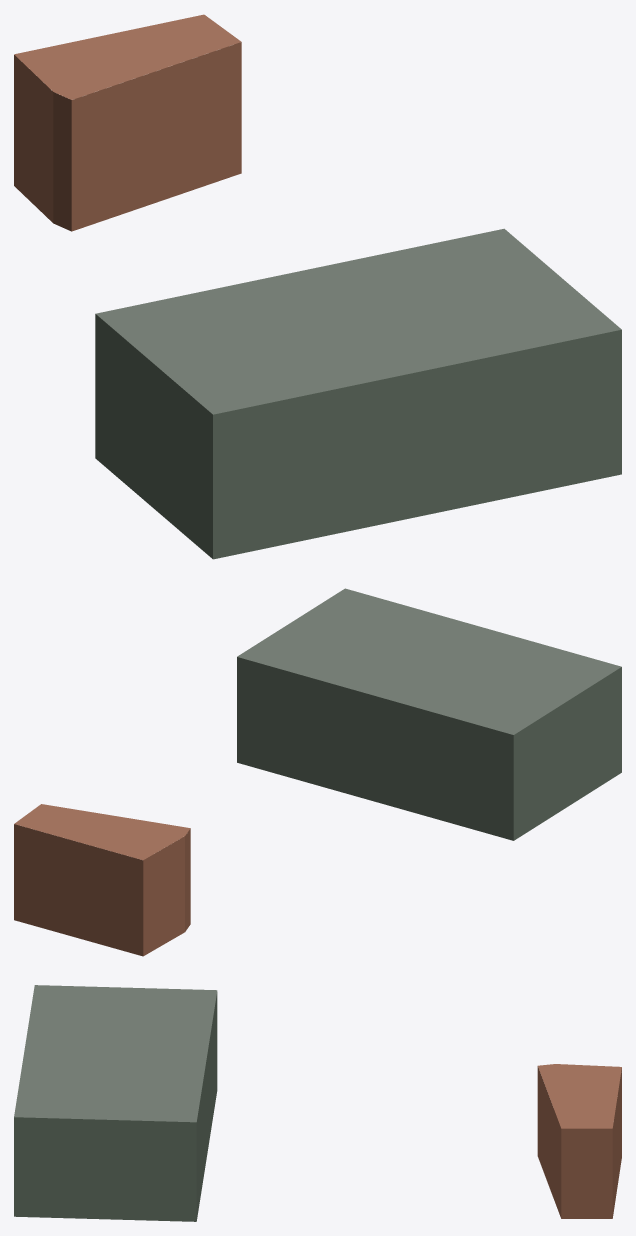
The model's file is tile--7_-6.glb.
3 views of the same model, one above another, from view 1: azimuth 30°, elevation 25°; view 2: azimuth 150°, elevation 25°; view 3: azimuth 270°, elevation 25° (orthographic). The views are drawn at different scales.
Parts seen in each view (by area): view 1: wall, roof; view 2: wall, roof; view 3: roof, wall.
Boxes of the visible parts, x1,y1,x2,y2 form: wall: (14,42,621,559); roof: (14,14,621,414); wall: (14,657,621,956); roof: (14,588,621,860); roof: (14,985,621,1128); wall: (14,992,621,1221).
Size of the model in its own units: 54.17 by 18.22 by 101.
